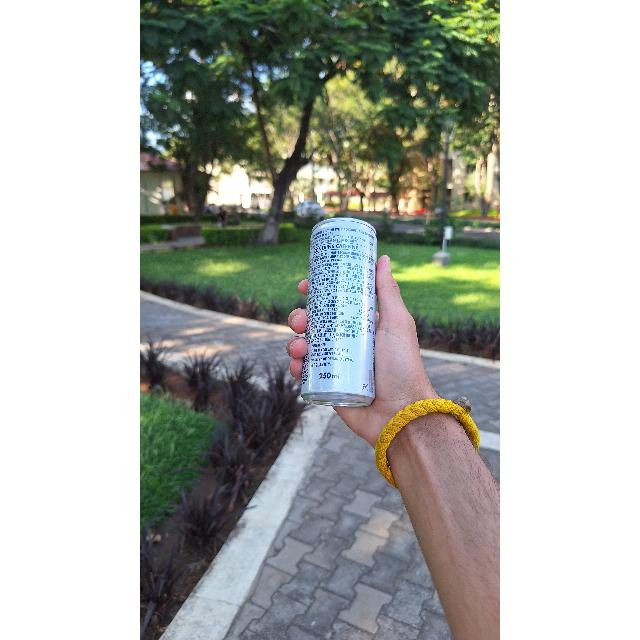Redbull Summer Edition: (304, 217, 382, 401)
